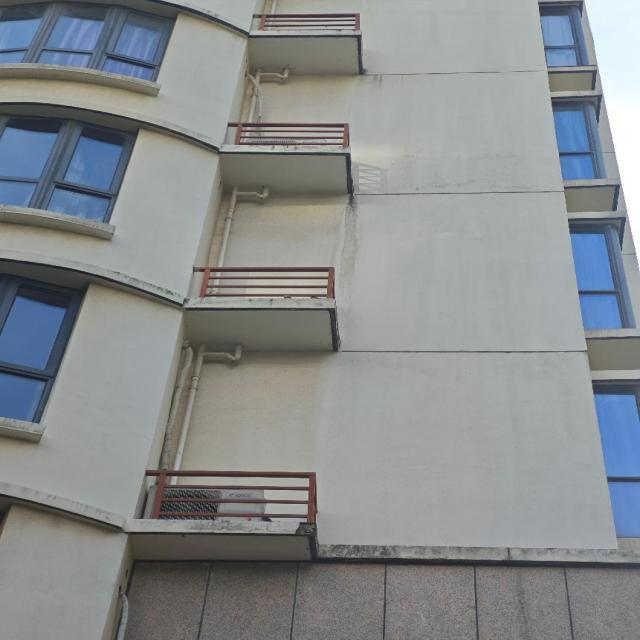mildew: (316, 545, 635, 564), (2, 484, 126, 527), (82, 263, 184, 306), (334, 192, 364, 292), (142, 520, 276, 533), (186, 297, 333, 307), (2, 417, 46, 433)
